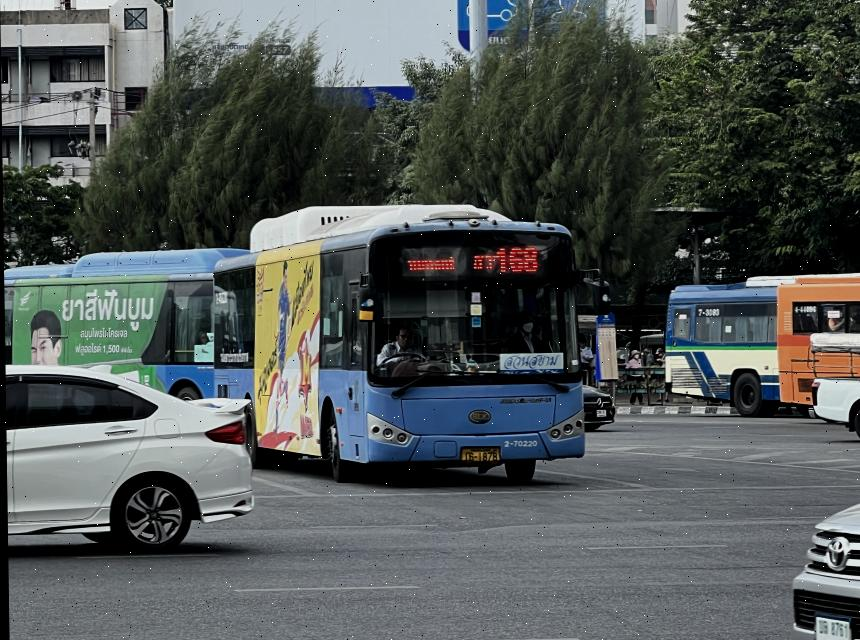BMTA-bus: (219, 204, 593, 482), (663, 278, 860, 419), (745, 274, 860, 409)
Bus Line Number: (492, 242, 541, 274)
Bus Side Number: (499, 438, 539, 449)
Destination Sign: (498, 352, 562, 375)
